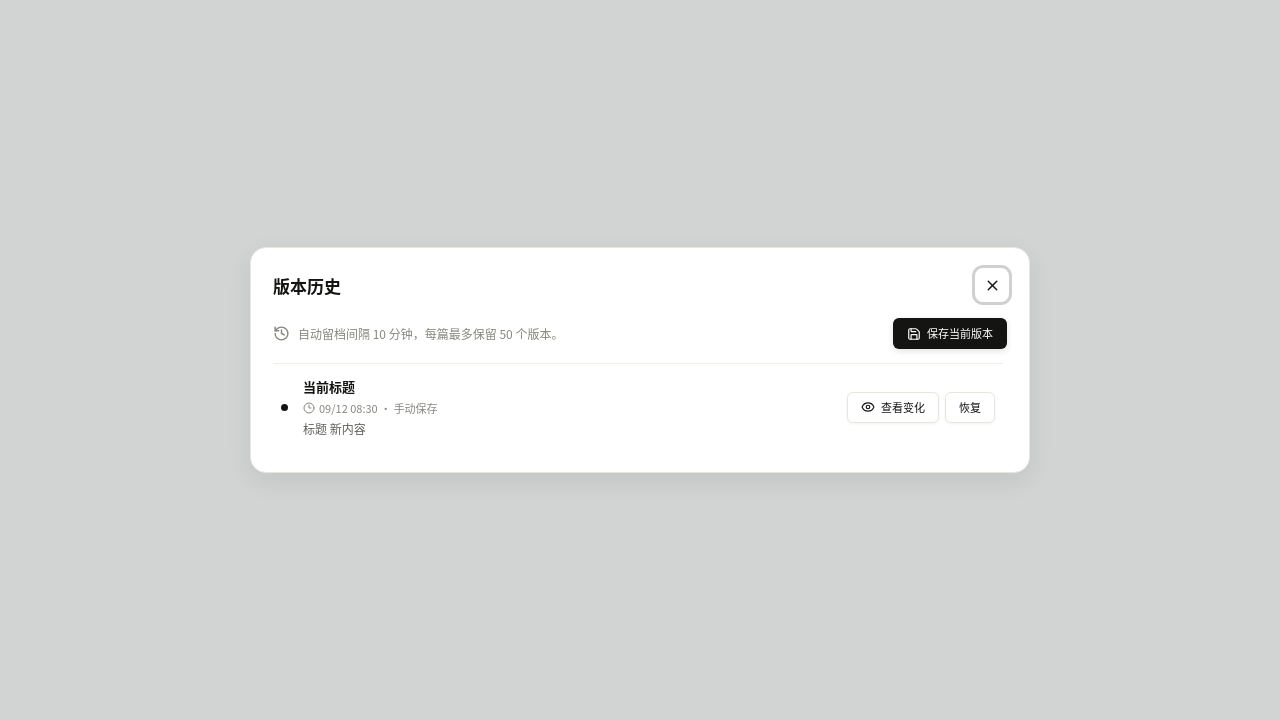
Scenario: VersionHistoryDialog › explains when a version has no body changes
Click the button with aria-label "查看版本变化 当前标题". click: (893, 407)
box: x1=847 y1=392 x2=939 y2=422
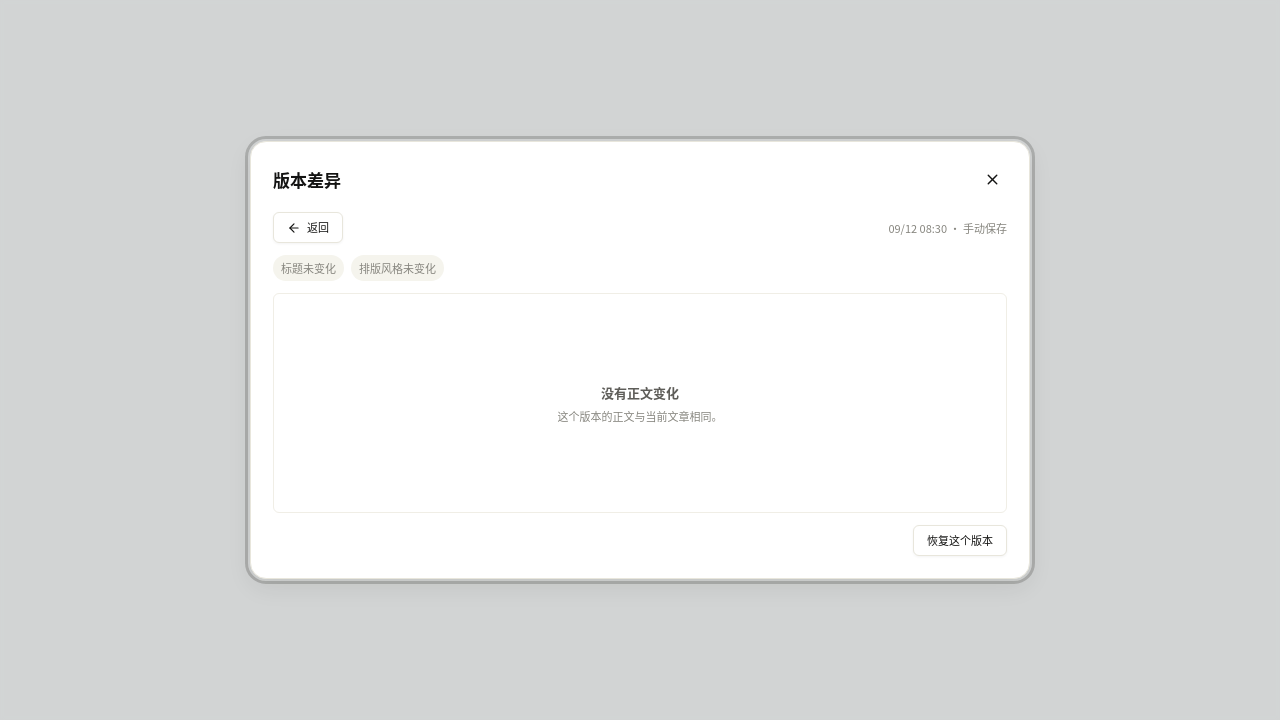
Expected: the text "没有正文变化" is shown, x1=601 y1=382 x2=679 y2=402
